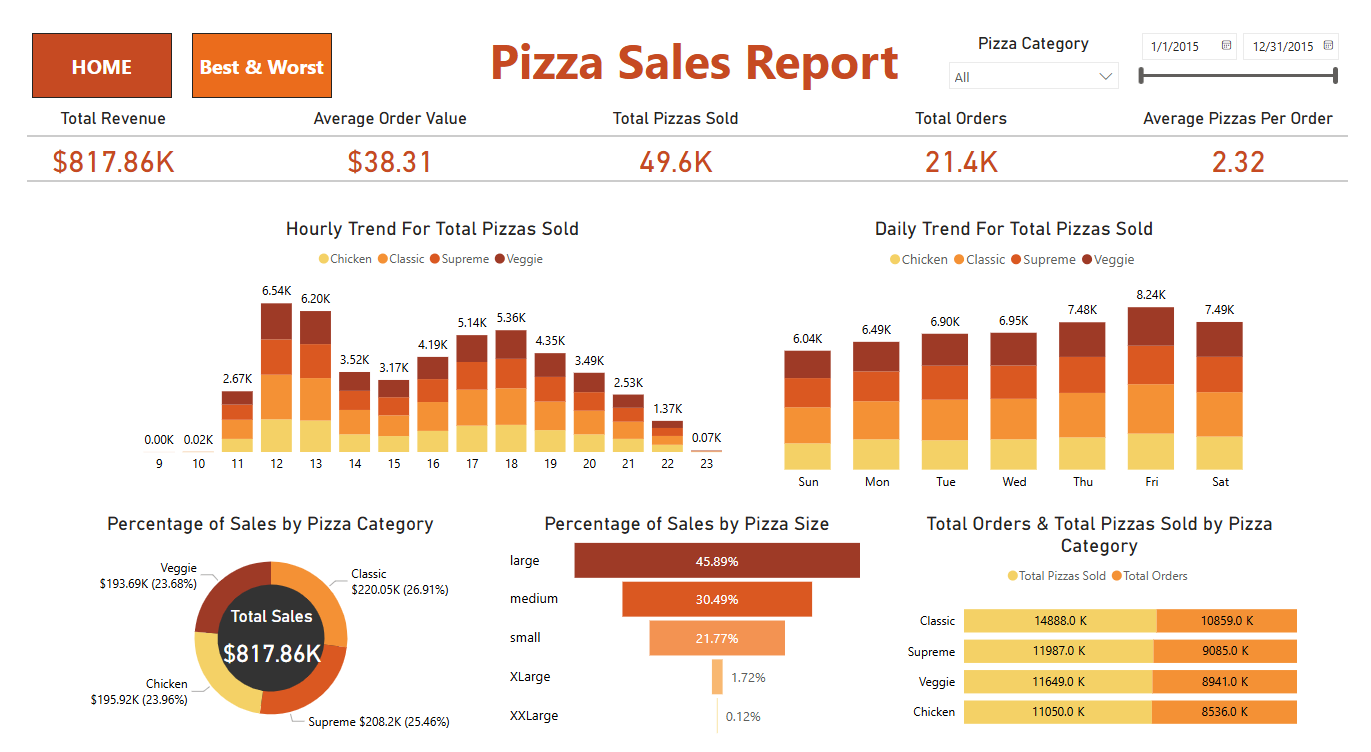

What the dashboard file says about the page in this screenshot:
{"tool":"powerbi","page":{"name":"HOME","canvas":[1380,720],"ordinal":0},"visuals":[{"type":"shape","box":[201.2,556.2,133.8,128.8],"z":0},{"type":"columnChart","title":"Hourly Trend For Total Pizzas Sold","fields":{"Series":["Table1.pizza_category"],"Y":["CountNonNull(Table1.quantity)"],"Category":["Table1.Hour_Number"]},"box":[119,195,620,265],"z":1000},{"type":"columnChart","title":"Daily Trend For Total Pizzas Sold","fields":{"Y":["Sum(Table1.quantity)"],"Series":["Table1.pizza_category"],"Category":["Table1.DayColumn"]},"box":[747.5,195,525,282.5],"z":2000},{"type":"donutChart","title":"Percentage of Sales by Pizza Category","fields":{"Category":["Table1.pizza_category"],"Y":["Sum(Table1.total_price)"]},"box":[61.2,490,411.2,230],"z":3000},{"type":"card","title":"Total Sales","fields":{"Values":["Sum(Table1.total_price)"]},"box":[207.5,583.8,120,75],"z":4000},{"type":"funnel","title":"Percentage of Sales by Pizza Size","fields":{"Category":["Table1.pizza_size"],"Y":["Divide(Sum(Table1.total_price), ScopedEval(Sum(Table1.total_price), []))"]},"box":[500.6,490,365,230],"z":5000},{"type":"hundredPercentStackedBarChart","title":"Total Orders & Total Pizzas Sold by Pizza Category","fields":{"Category":["Table1.pizza_category"],"Y":["Table1.Total Pizzas Sold","Table1.Total Orders"]},"box":[893.8,490,403.8,230],"z":6000},{"type":"shape","box":[22.5,152.5,1321,12],"z":7000},{"type":"card","title":"Total Revenue","fields":{"Values":["Sum(Table1.total_price)"]},"box":[0,86.2,218.8,83.8],"z":8000},{"type":"card","title":"Average Order Value","fields":{"Values":["Table1.average Order Value"]},"box":[276.9,86.2,218.8,83.8],"z":9000},{"type":"card","title":"Total Pizzas Sold","fields":{"Values":["Table1.Total Pizzas Sold"]},"box":[553.8,86.2,236.2,83.8],"z":10000},{"type":"card","title":"Total Orders","fields":{"Values":["Table1.Total Orders"]},"box":[848.1,86.2,218.8,83.8],"z":11000},{"type":"card","title":"Average Pizzas Per Order","fields":{"Values":["Table1.Average Pizzas Per Order"]},"box":[1125,86.2,218.8,83.8],"z":12000},{"type":"pageNavigator","box":[27.5,11.2,300,65],"z":13000},{"type":"shape","box":[22.5,107.5,1321.2,12.5],"z":14000},{"type":"textbox","box":[472.5,0,435,76.2],"z":15000},{"type":"slicer","fields":{"Values":["Table1.order_date"]},"box":[1125,1.2,222.5,75],"z":16000},{"type":"slicer","title":"Pizza Category","fields":{"Values":["Table1.pizza_category"]},"box":[935,11,190,65],"z":17000}]}

Visuals, with their boxes on the page's 1380x720 design canvas (x1, y1, x2, y2). These are canvas units, not pixel positions in the 1371x752 screenshot, which may show the page scaled, cropped or inside an application window:
shape: box=[201, 556, 335, 685]
"Hourly Trend For Total Pizzas Sold" columnChart: box=[119, 195, 739, 460]
"Daily Trend For Total Pizzas Sold" columnChart: box=[748, 195, 1272, 478]
"Percentage of Sales by Pizza Category" donutChart: box=[61, 490, 472, 720]
"Total Sales" card: box=[208, 584, 328, 659]
"Percentage of Sales by Pizza Size" funnel: box=[501, 490, 866, 720]
"Total Orders & Total Pizzas Sold by Pizza Category" hundredPercentStackedBarChart: box=[894, 490, 1298, 720]
shape: box=[22, 152, 1344, 164]
"Total Revenue" card: box=[0, 86, 219, 170]
"Average Order Value" card: box=[277, 86, 496, 170]
"Total Pizzas Sold" card: box=[554, 86, 790, 170]
"Total Orders" card: box=[848, 86, 1067, 170]
"Average Pizzas Per Order" card: box=[1125, 86, 1344, 170]
pageNavigator: box=[28, 11, 328, 76]
shape: box=[22, 108, 1344, 120]
textbox: box=[472, 0, 908, 76]
slicer - Table1.order_date: box=[1125, 1, 1348, 76]
"Pizza Category" slicer: box=[935, 11, 1125, 76]
